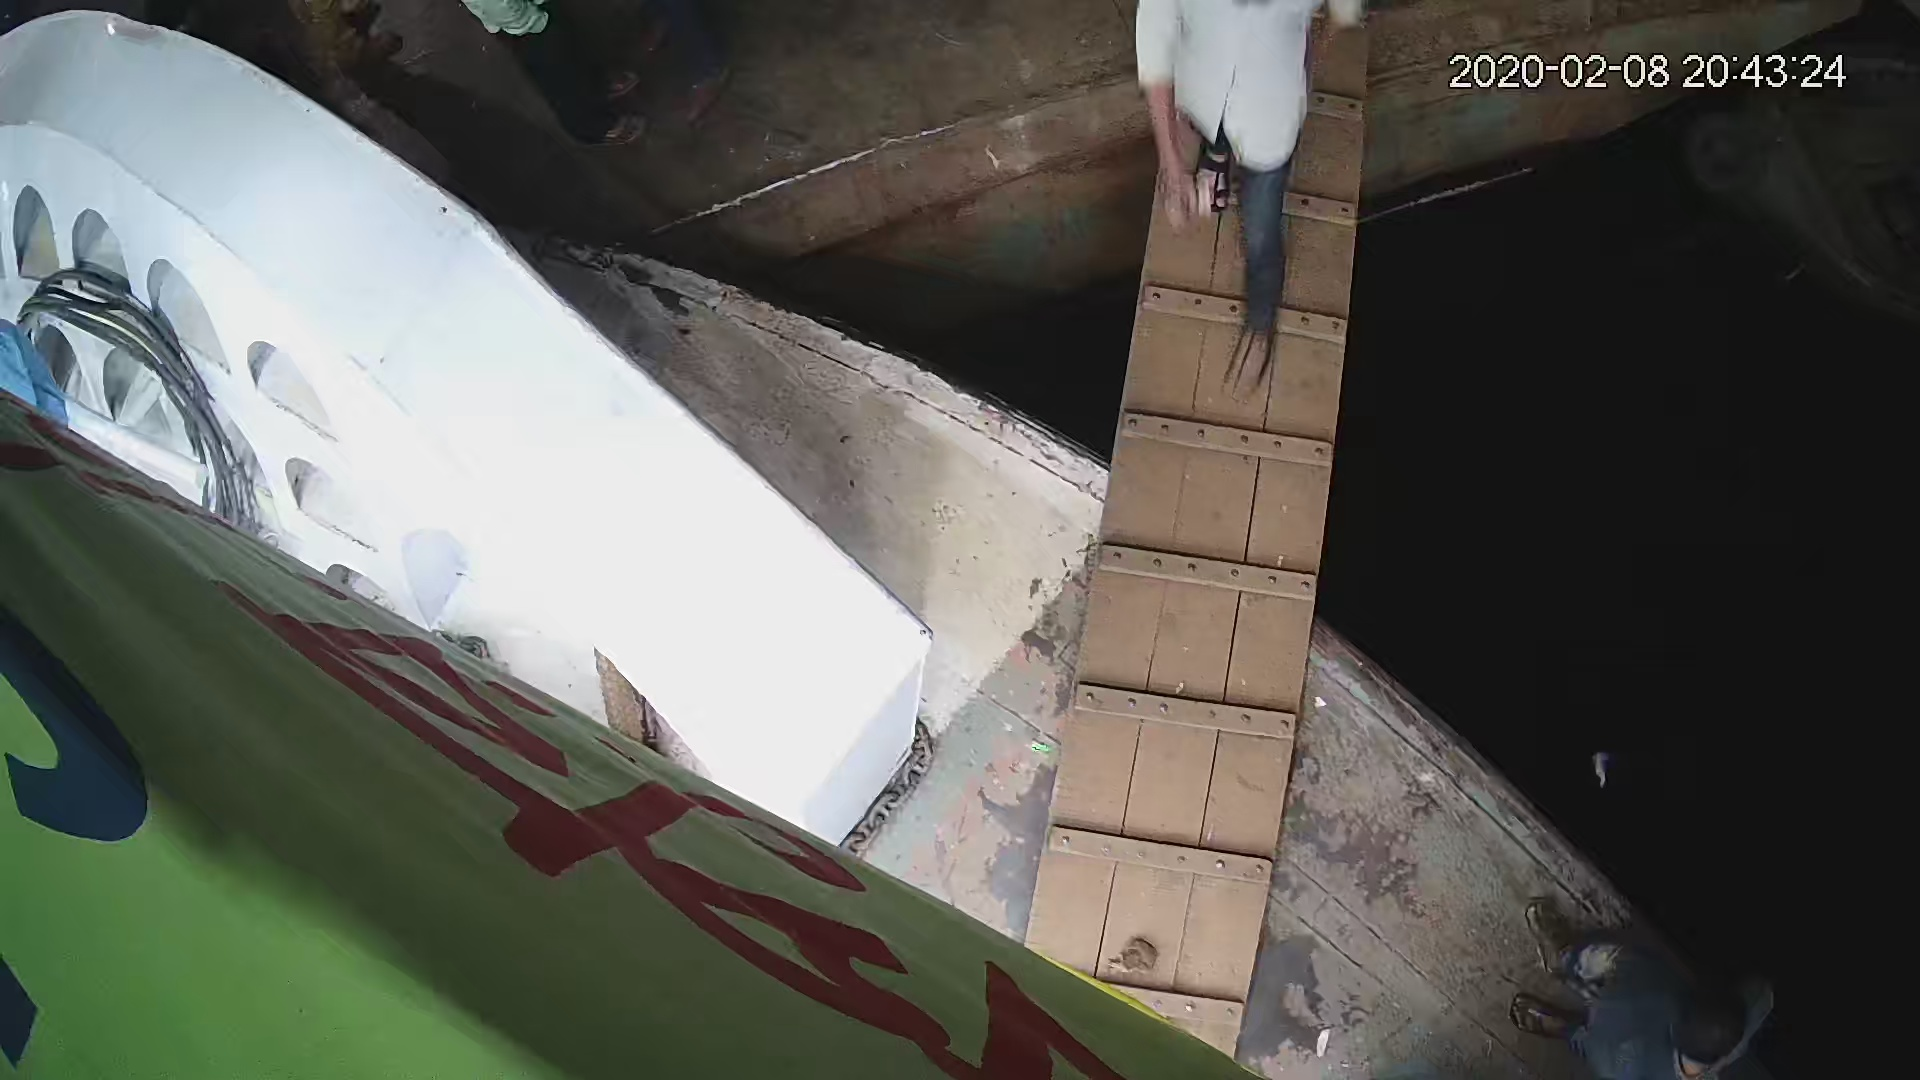person: (1129, 1, 1341, 376)
